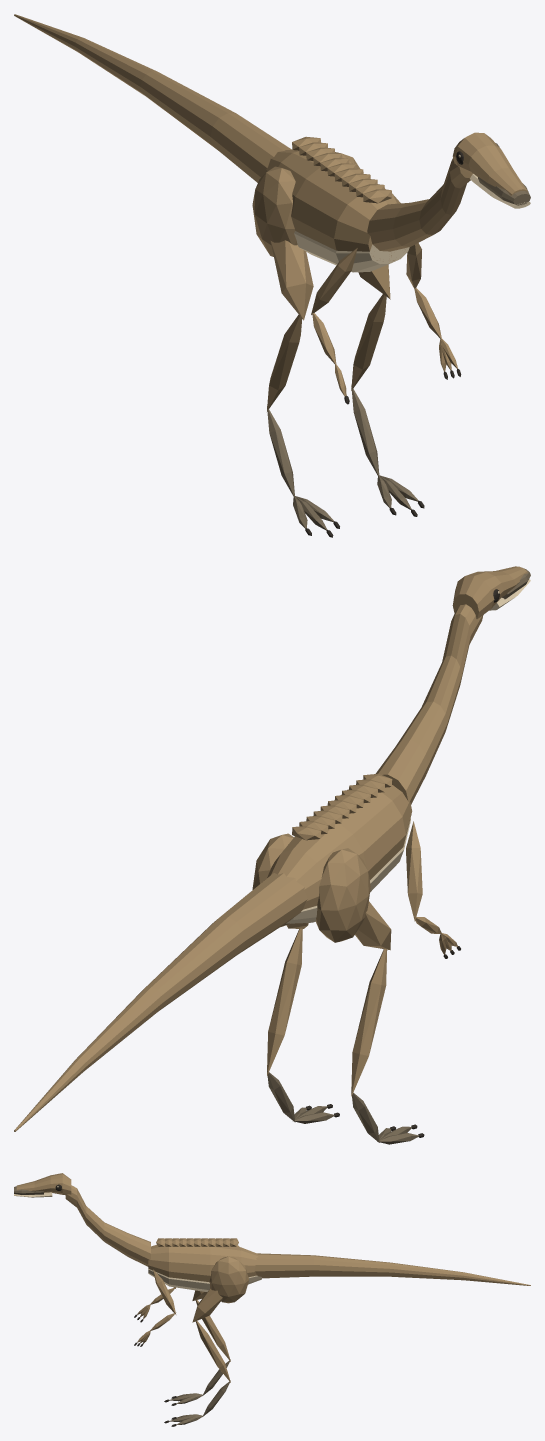
3 renders of one model, top to bottom at view 1: azimuth 30°, elevation 25°; view 2: azimuth 150°, elevation 25°; view 3: azimuth 270°, elevation 25°, orthographic. The views are drawn at different scales.
Visible parts, largest first — view 1: surface_sand_body, surface_bill_legs, surface_pale_underside; view 2: surface_sand_body, surface_bill_legs, surface_pale_underside; view 3: surface_sand_body, surface_bill_legs, surface_pale_underside.
Part boxes in pixels (bbox=[...]): surface_sand_body: bbox=[14, 14, 527, 411]; surface_bill_legs: bbox=[267, 177, 530, 530]; surface_pale_underside: bbox=[294, 145, 530, 272]; surface_sand_body: bbox=[14, 566, 527, 1131]; surface_bill_legs: bbox=[267, 568, 530, 1144]; surface_pale_underside: bbox=[286, 579, 530, 923]; surface_sand_body: bbox=[16, 1173, 530, 1382]; surface_bill_legs: bbox=[14, 1186, 230, 1424]; surface_pale_underside: bbox=[14, 1186, 261, 1291].
Bounding box in the file's own units: 0.1325 × 0.5094 × 1.
